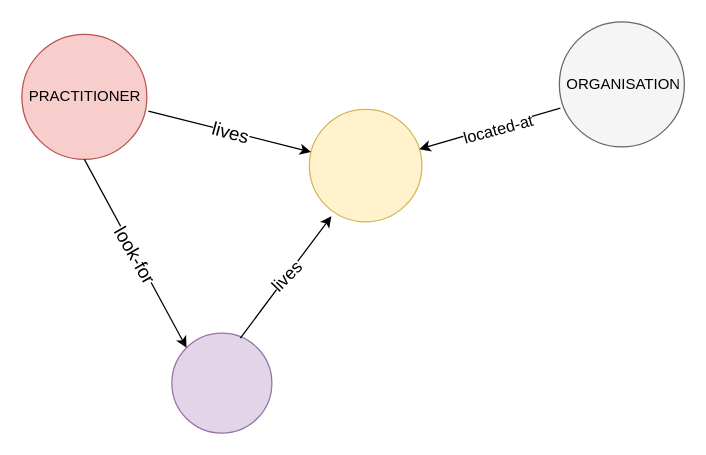
Image size: 706x455. Some labels were removed from this diagram. Here are the shapes that lost their labels. From the top down, the centre of each, then its label:
At point (365, 165): "GEOGRAPHIE".
At point (221, 382): "PATIENT".
